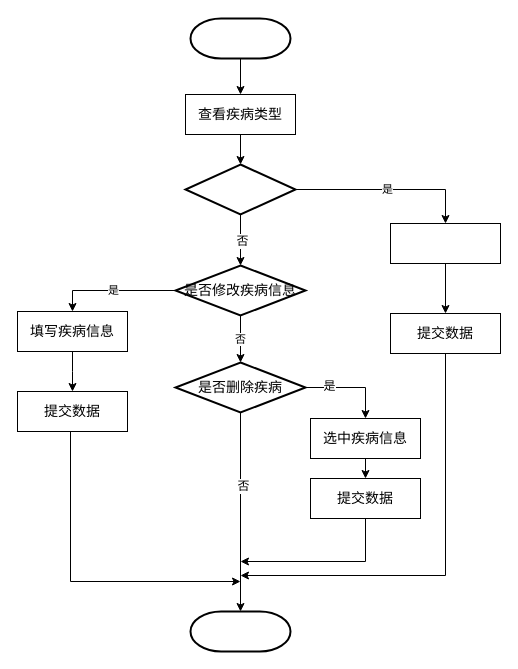
Some shapes in this 518 by 669 pixel diagram are drawn without their labels. Each missing label, with the centre of its shape:
填写数据: (445,243)
开始: (240,38)
是否添加疾病: (240,189)
结束: (240,631)
